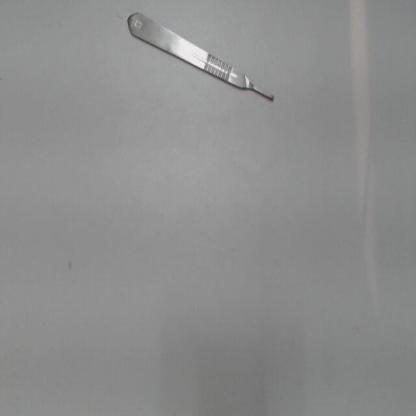No.3 BP Handle: (118, 4, 281, 110)
